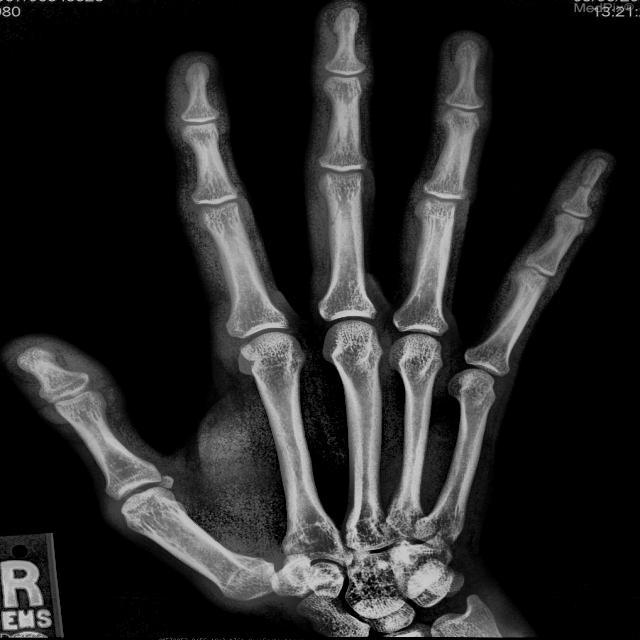fracture: (578, 181, 596, 192)
